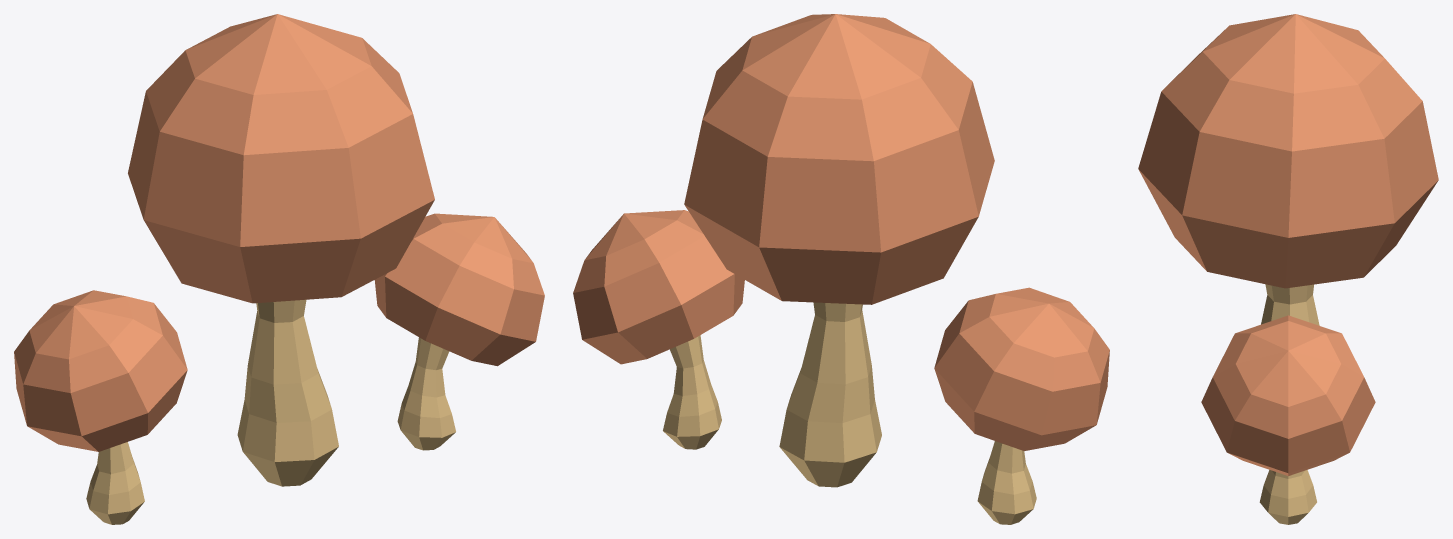
The model's file is Mushroom002.fbx.
3 views of the same model, side by side, from view 1: azimuth 30°, elevation 25°; view 2: azimuth 150°, elevation 25°; view 3: azimuth 270°, elevation 25° (orthographic). The views are drawn at different scales.
Parts seen in each view (by area): view 1: Mushroom002; view 2: Mushroom002; view 3: Mushroom002.
Boxes of the visible parts, x1=… form: Mushroom002: x1=14, y1=14, x2=544, y2=524; Mushroom002: x1=573, y1=14, x2=1109, y2=524; Mushroom002: x1=1138, y1=14, x2=1438, y2=524.
Size of the model in its own units: 1.44 by 1.25 by 0.7781.
